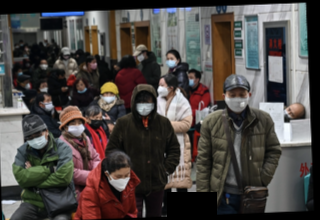mask_weared_incorrect: (75, 83, 88, 93)
with_mask: (225, 90, 251, 113), (108, 170, 132, 192), (25, 131, 48, 149), (135, 97, 156, 116), (66, 120, 85, 137), (88, 113, 104, 130), (156, 81, 169, 98), (283, 106, 296, 122), (101, 91, 115, 104), (42, 97, 54, 112), (165, 56, 177, 69), (187, 74, 196, 88), (136, 52, 145, 62), (39, 83, 48, 93), (39, 60, 48, 70), (90, 60, 98, 70), (58, 74, 66, 83), (23, 80, 31, 89), (17, 69, 24, 76), (62, 53, 69, 60)
